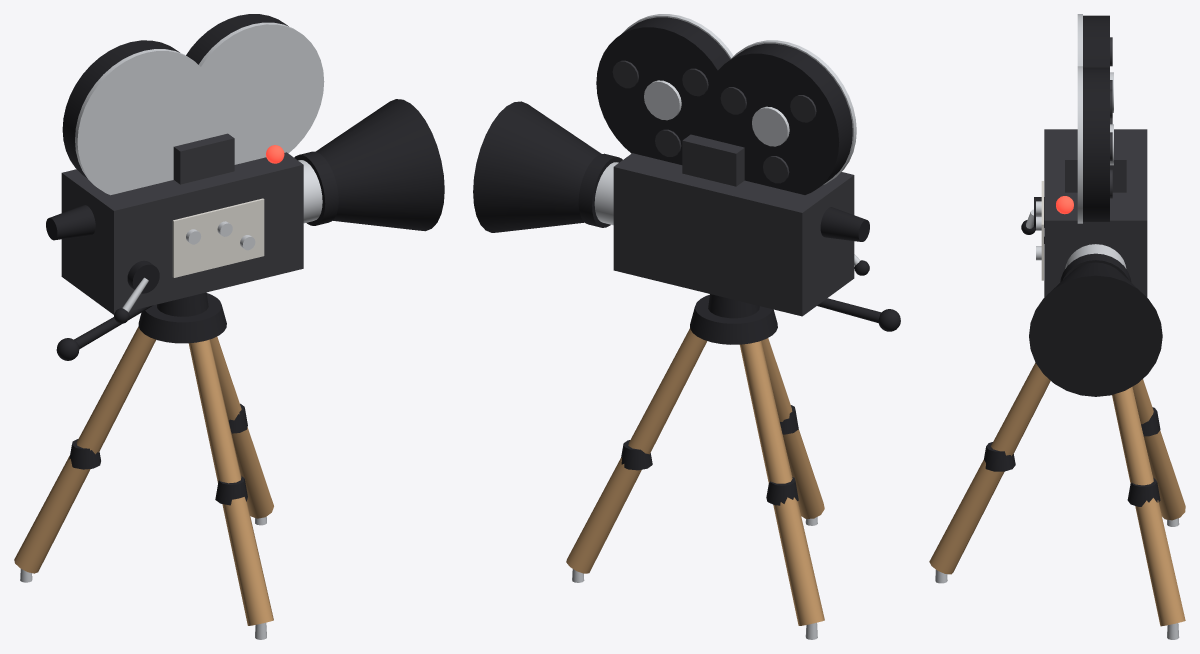
Rendered from film-camera.glb.
3 renders of one model, left to right at view 1: azimuth 30°, elevation 25°; view 2: azimuth 150°, elevation 25°; view 3: azimuth 270°, elevation 25°, orthographic.
Visible parts, largest first — view 1: film-camera; view 2: film-camera; view 3: film-camera.
Boxes of the visible parts, x1=… form: film-camera: x1=14, y1=14, x2=444, y2=639; film-camera: x1=473, y1=14, x2=900, y2=639; film-camera: x1=929, y1=14, x2=1185, y2=639.
Bounding box in the file's own units: 0.827 × 1.15 × 0.4981.
